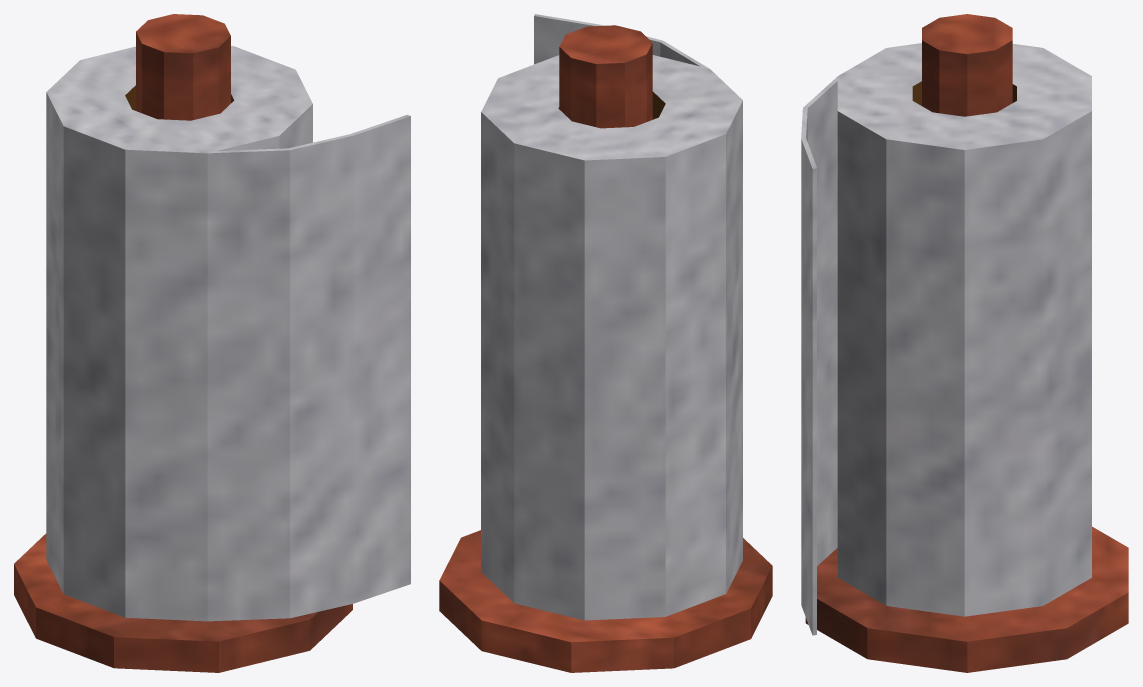
Rendered from papertowlsnstand.fbx.
The picture shows the model from 3 angles, left to right: view 1: azimuth 30°, elevation 25°; view 2: azimuth 150°, elevation 25°; view 3: azimuth 270°, elevation 25°; orthographic projection.
Parts seen in each view (by area): view 1: PT_Vertical_1, PT_stand; view 2: PT_Vertical_1, PT_stand; view 3: PT_Vertical_1, PT_stand.
Boxes of the visible parts, x1,y1,x2,y2 form: PT_Vertical_1: (46, 46, 410, 621); PT_stand: (14, 14, 352, 672); PT_Vertical_1: (481, 14, 742, 620); PT_stand: (439, 25, 772, 672); PT_Vertical_1: (801, 43, 1091, 635); PT_stand: (805, 14, 1128, 672).
Size of the model in its own units: 118 by 216 by 113.
